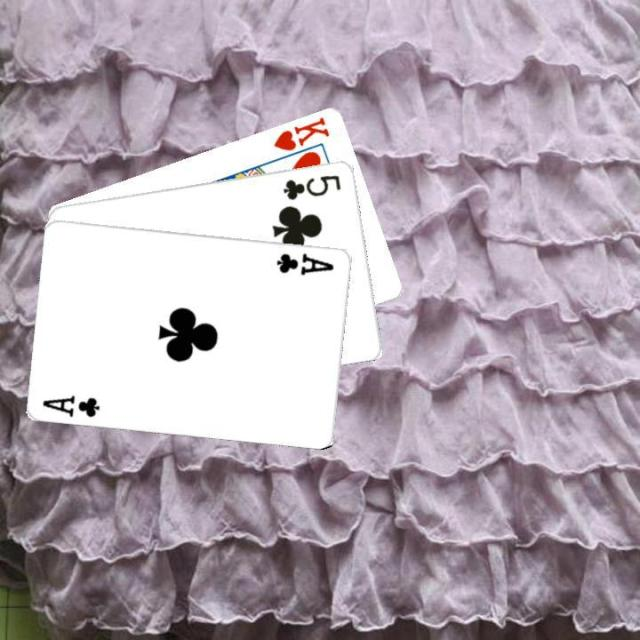5C: (280, 170, 343, 202)
AC: (39, 390, 102, 419), (273, 249, 336, 276)
KH: (270, 112, 332, 153)
